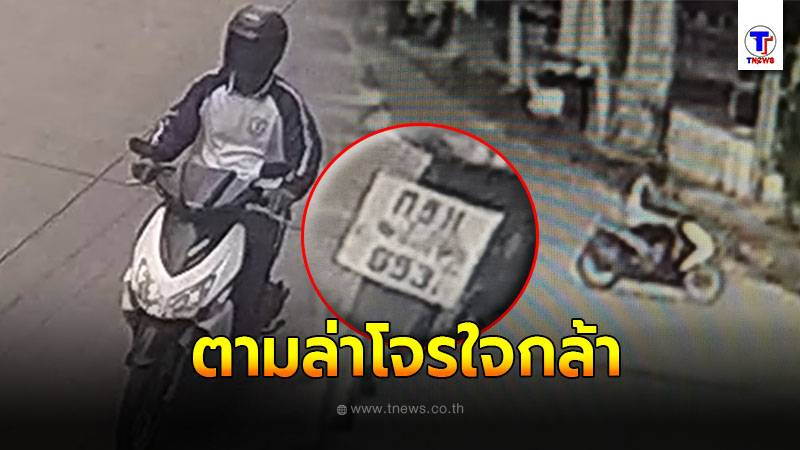Helmet: (217, 2, 297, 86)
motorcycle: (104, 138, 288, 418), (562, 208, 754, 310)
